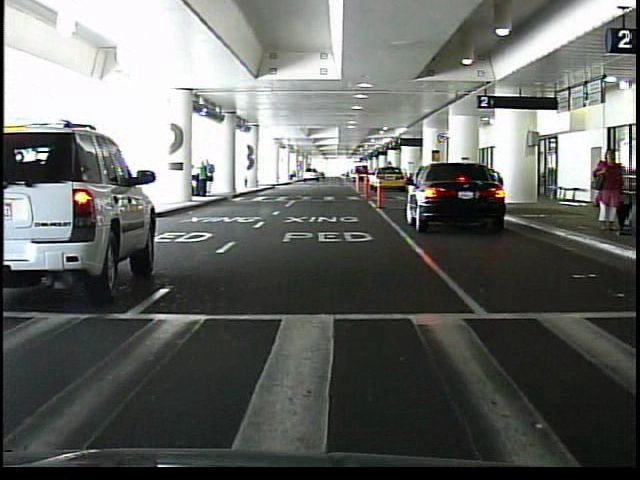person: (590, 150, 624, 237), (593, 154, 607, 209), (195, 160, 208, 199), (206, 160, 216, 197)
